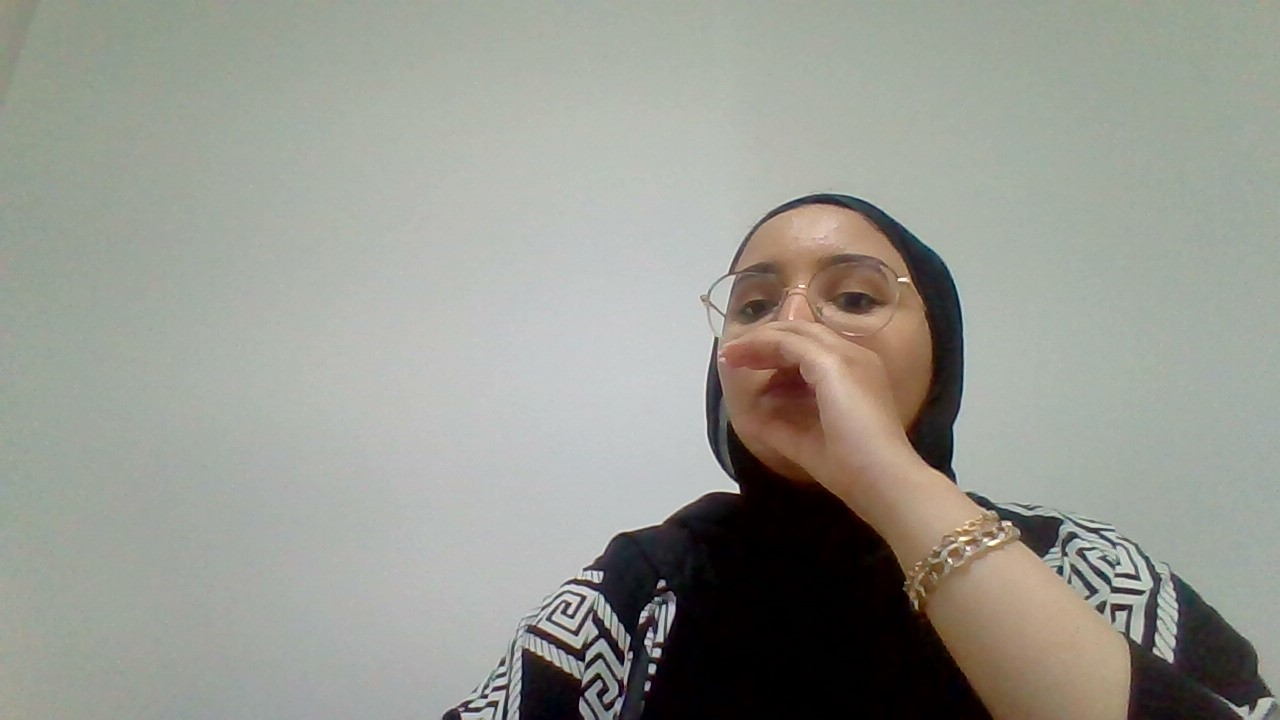drink: (718, 321, 909, 483)
